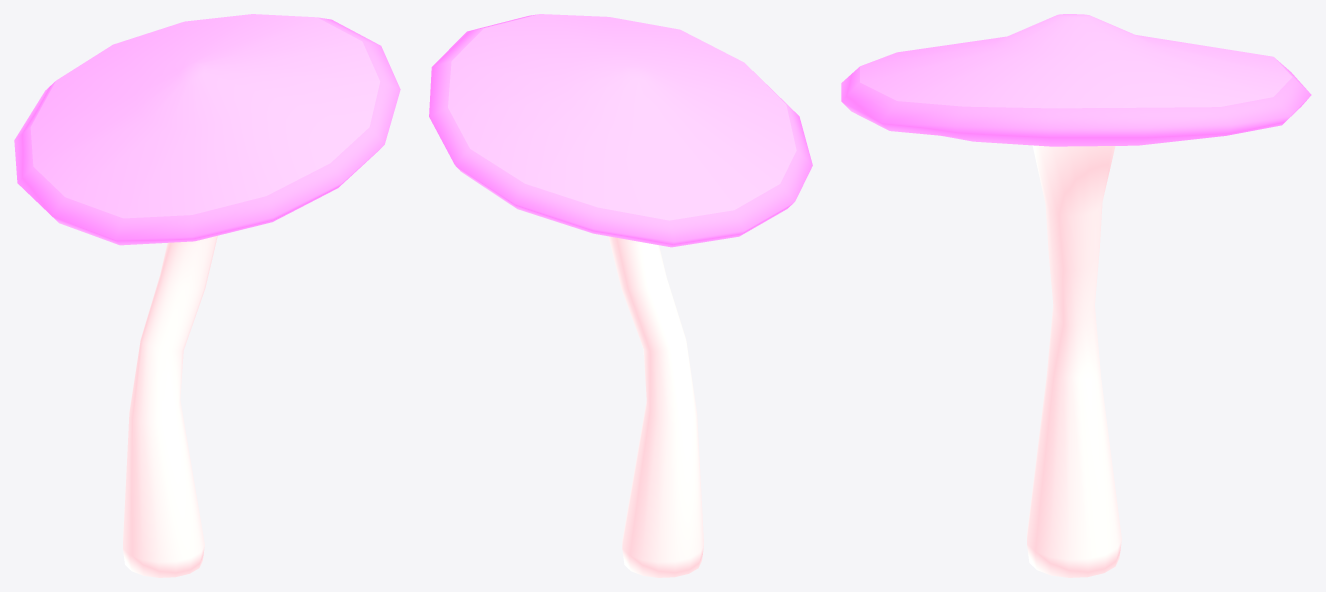
The model's file is cogumelo_M1.fbx.
3 views of the same model, side by side, from view 1: azimuth 30°, elevation 25°; view 2: azimuth 150°, elevation 25°; view 3: azimuth 270°, elevation 25° (orthographic). The views are drawn at different scales.
Visible parts, largest first — view 1: cogu_M1; view 2: cogu_M1; view 3: cogu_M1.
Part boxes in pixels (x1,y1,x2,y2): cogu_M1: (14, 14, 400, 577); cogu_M1: (429, 14, 812, 577); cogu_M1: (841, 14, 1311, 577).
Size of the model in its own units: 453 by 483 by 639.
